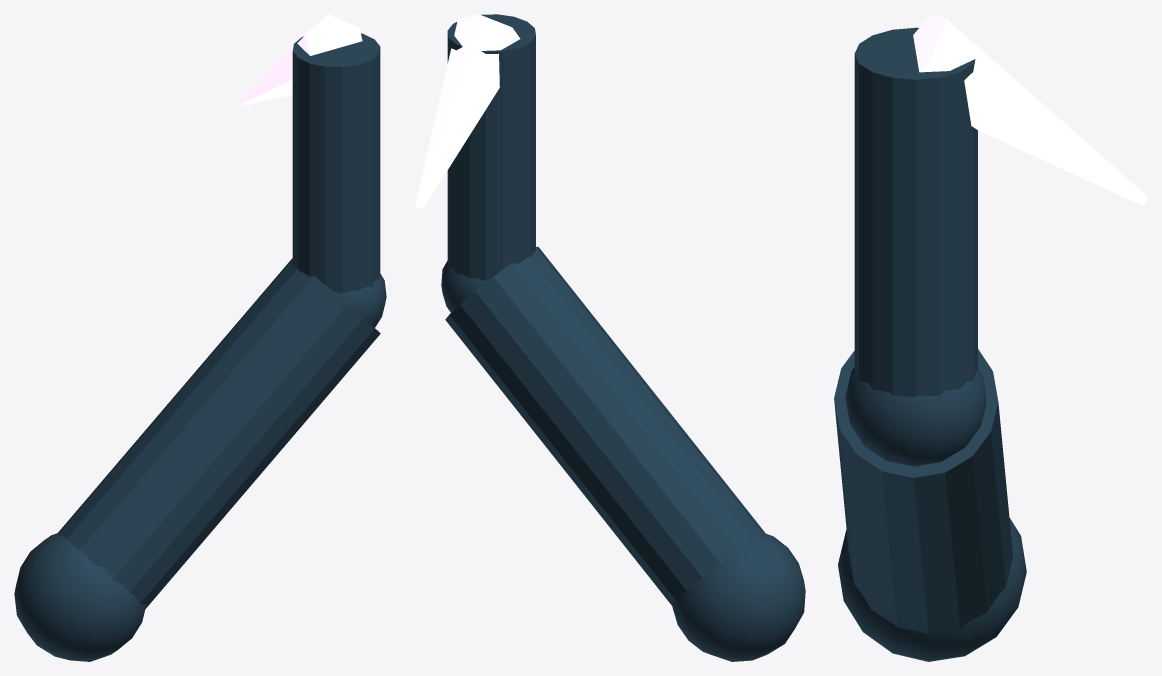
File: SM_Keeper_Nun_Arm10.fbx
The picture shows the model from 3 angles, left to right: view 1: azimuth 30°, elevation 25°; view 2: azimuth 150°, elevation 25°; view 3: azimuth 270°, elevation 25°; orthographic projection. The views are drawn at different scales.
Parts seen in each view (by area): view 1: SM_Keeper_Nun_Arm10; view 2: SM_Keeper_Nun_Arm10; view 3: SM_Keeper_Nun_Arm10.
Boxes of the visible parts, x1=… form: SM_Keeper_Nun_Arm10: x1=14, y1=14, x2=386, y2=661; SM_Keeper_Nun_Arm10: x1=415, y1=14, x2=805, y2=661; SM_Keeper_Nun_Arm10: x1=834, y1=14, x2=1147, y2=661.
Size of the model in its own units: 1.79 by 2.81 by 0.9925.
